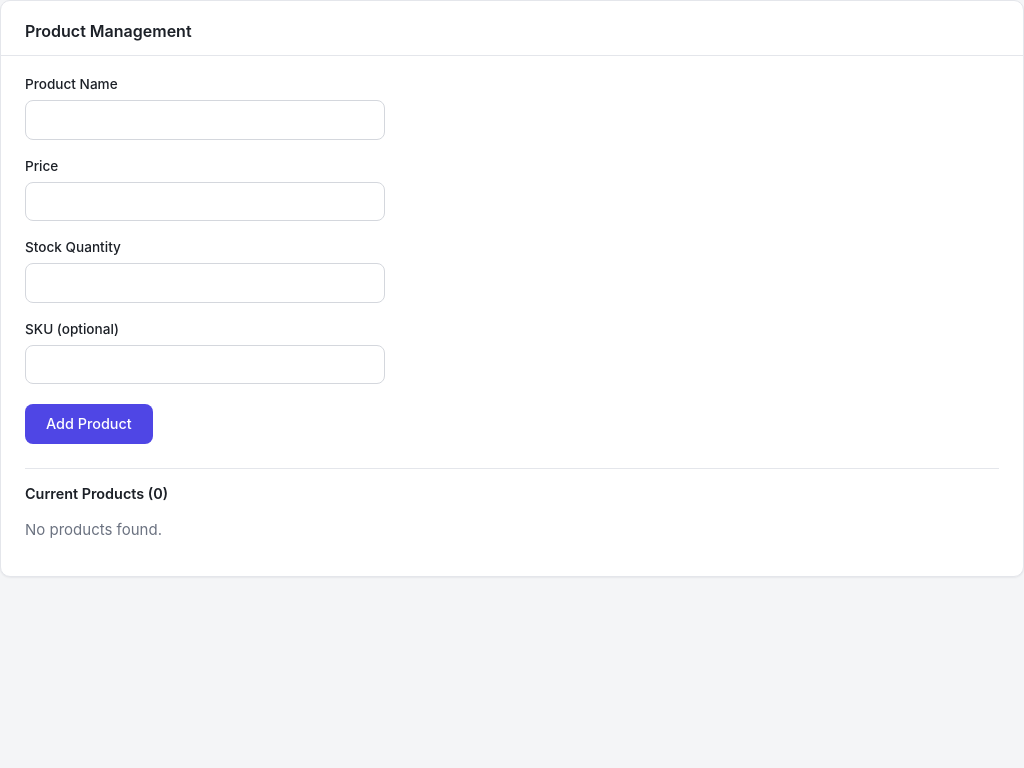
Test: ProductManagement › rejects a missing stock quantity
Expected: the text "No products found." is shown, [25,520,162,539]
Type "Widget" into the field labelled "Product Name" at (205, 120), box [25,100,385,140]
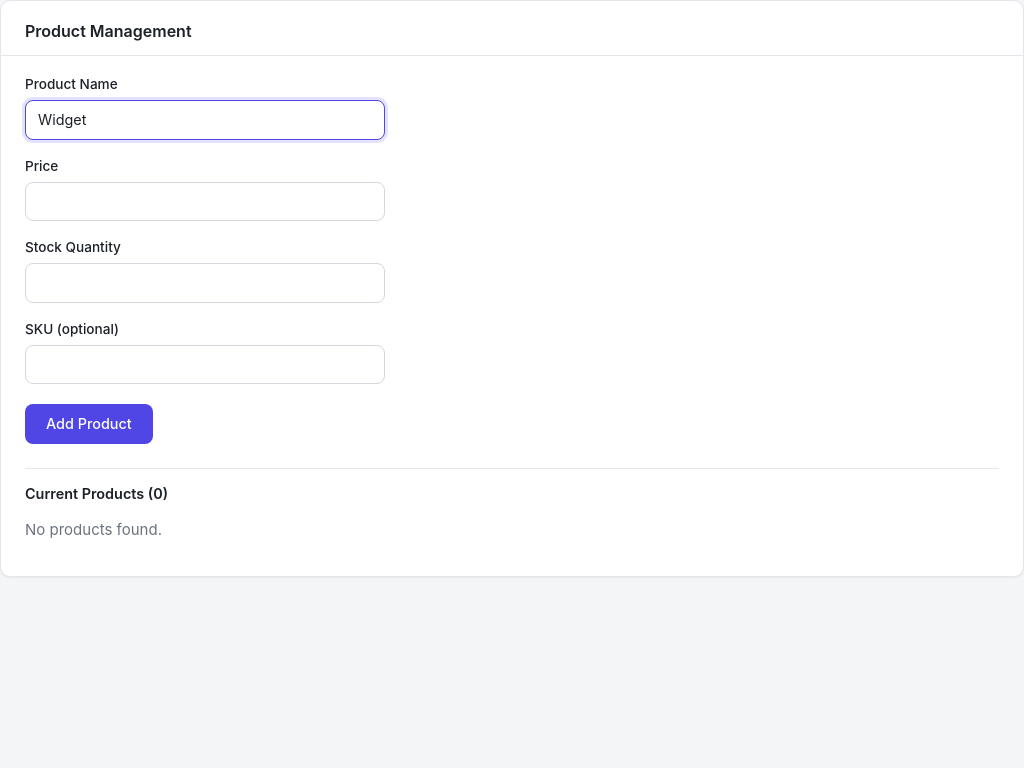
Type "9.99" into the number field labelled "Price" at (205, 201), box [25,182,385,221]
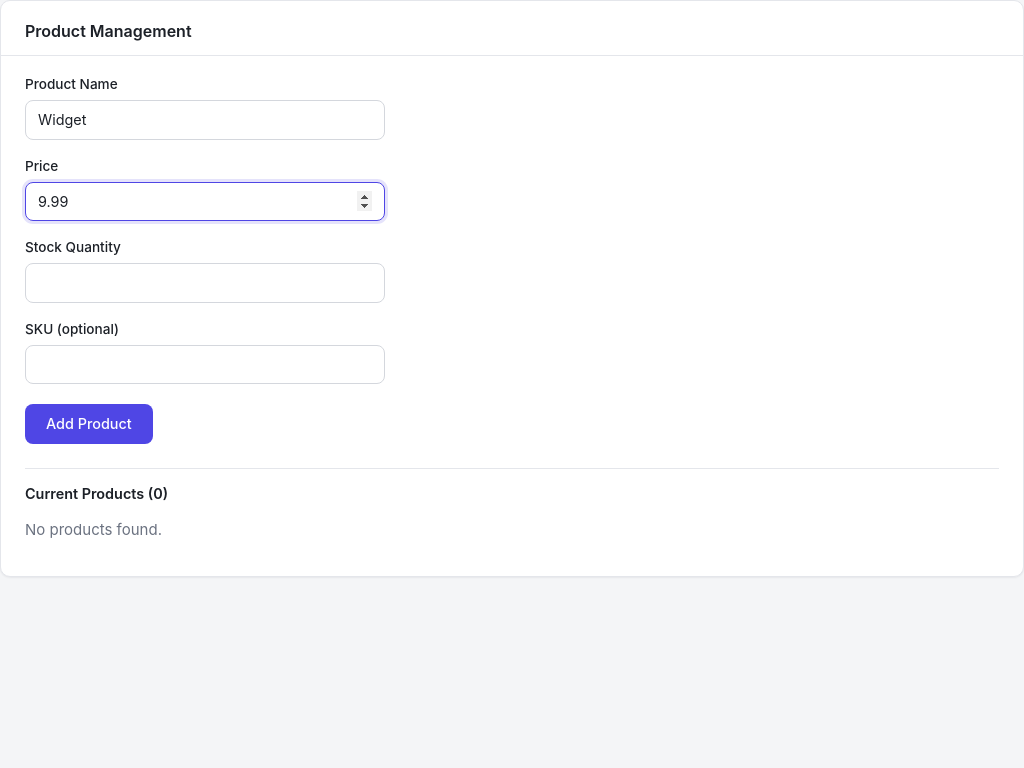
Click the button "Add Product" at (89, 424), box [25,404,153,444]
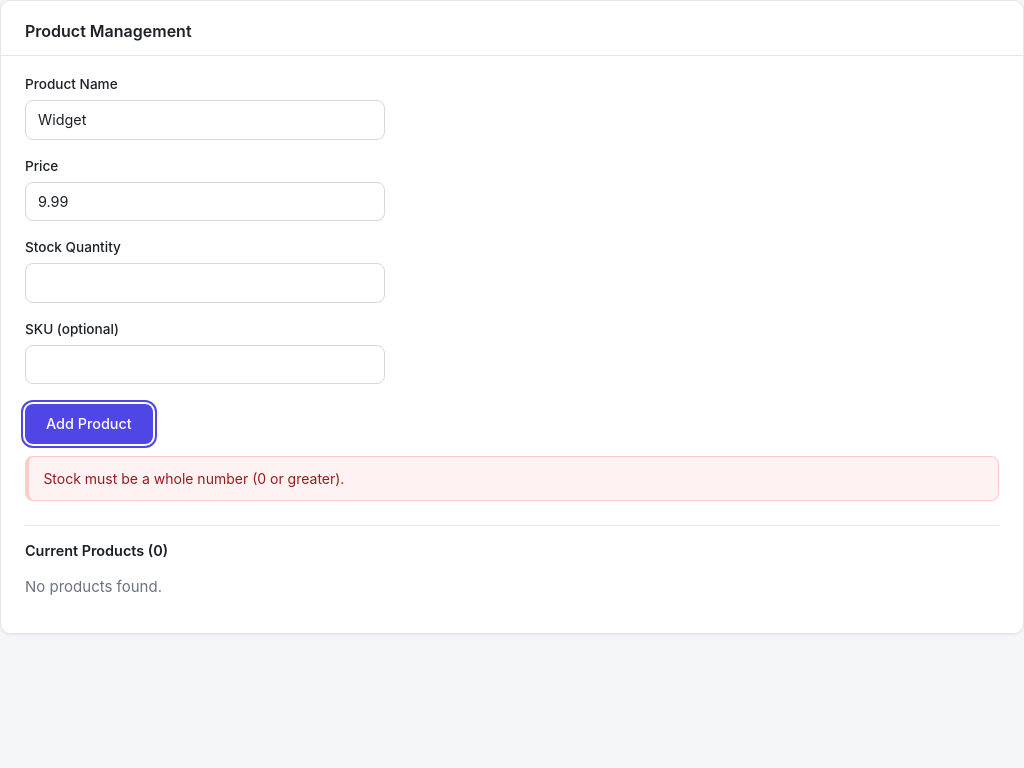
Result: the text "Stock must be a whole number (0 or greater)." is shown at [25,456,999,501]
